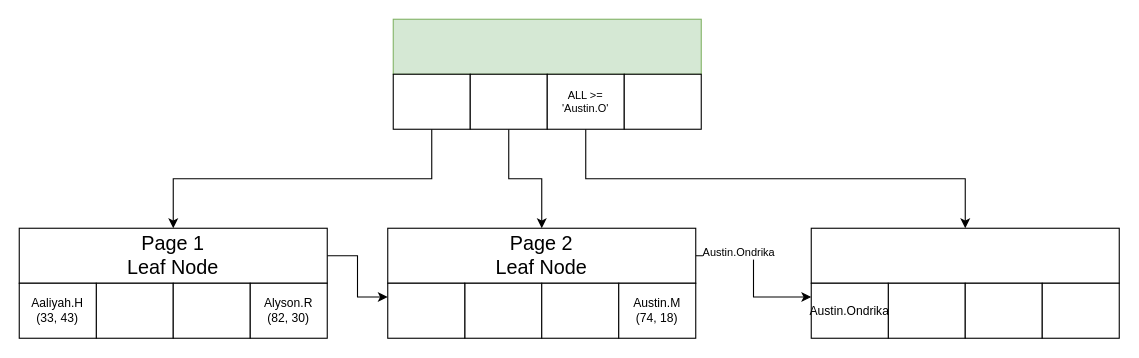
Some shapes in this 1139 by 358 pixel diagram are drawn without their labels. The shapes that lost their labels are listed below. From the top down, each one's box as (x1, y1, x2, y2) in pixels, then its label:
(392, 18, 701, 74): Page 3 Root Node
(469, 73, 547, 129): ALL >= 'Alyson14'
(810, 227, 1119, 283): Page 4 Leaf Node
(387, 282, 465, 338): Alyson14 (20, 7)
